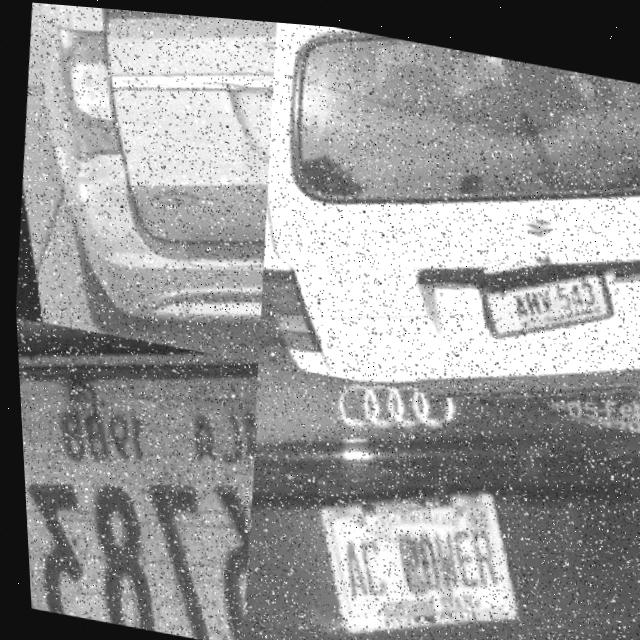LicensePlate: (15, 376, 261, 640), (312, 479, 514, 631), (475, 240, 622, 350)
